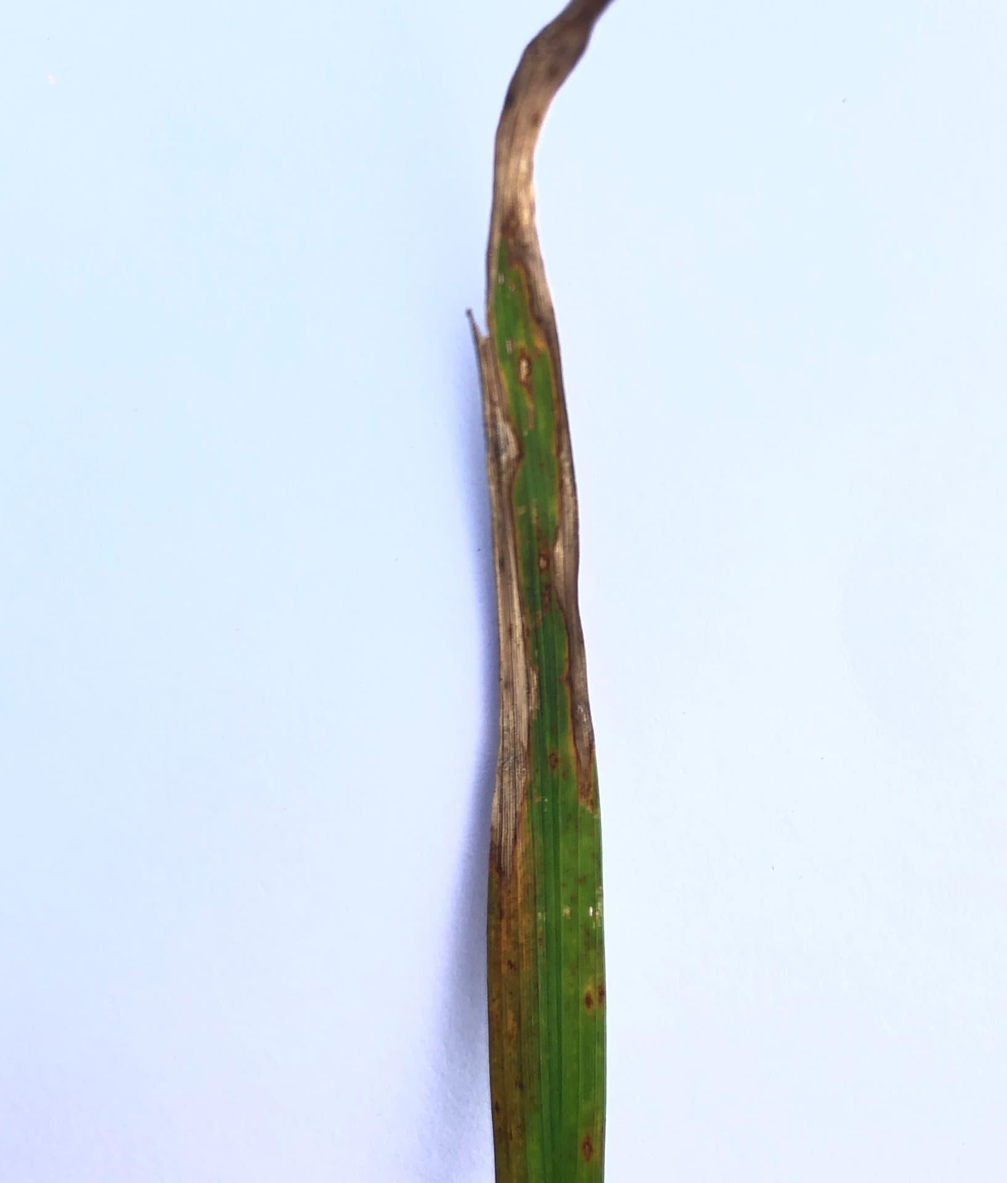Leaf Blight: (496, 0, 601, 821), (472, 323, 538, 1182)
